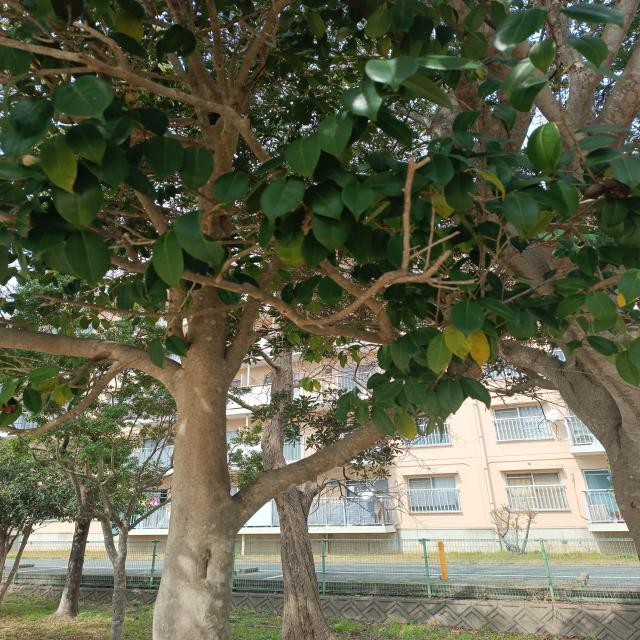Branch: (240, 345, 471, 513), (0, 327, 181, 384), (224, 273, 281, 369)
Twig: (107, 256, 377, 340), (320, 267, 397, 338), (331, 270, 432, 321)
